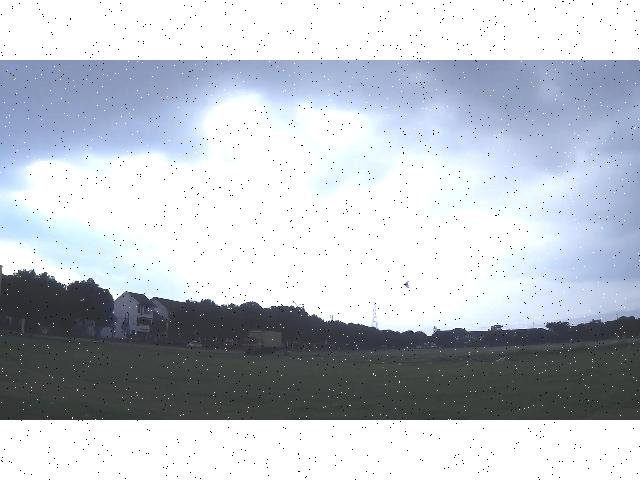Anti-Drone: (404, 281, 410, 289)
